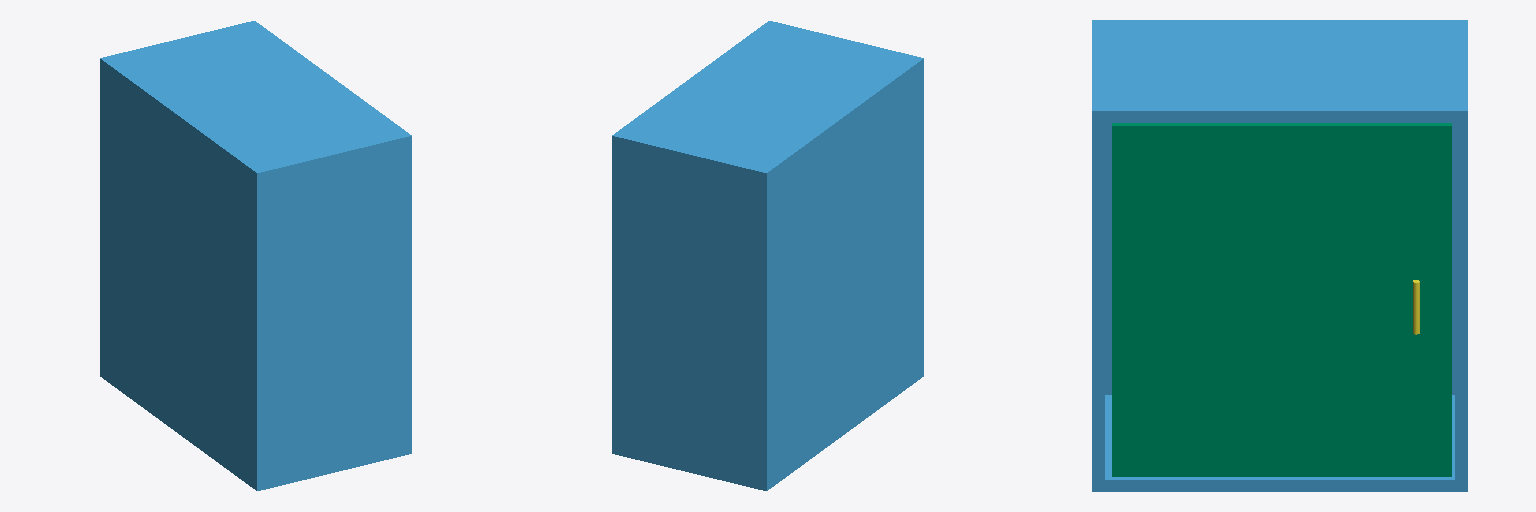
The robot description file, URDF, robot "my_cabinet":
<?xml version="1.0" ?>
<robot name="my_cabinet">
	<link name="world"/>
	<joint name="virtual_joint" type="fixed">
		<parent link="world"/>
		<child link="base_cabinet_link"/>
		<origin xyz="0.0 0.0 0.0" rpy="0.0 0.0 0.0"/>
	</joint>
	<link name="base_cabinet_link">
		<visual>
			<origin xyz="0.0 -0.0025 -0.2855412049980395" rpy="0.0 0.0 0.0"/>
			<geometry>
				<box size="0.3 0.5282421934627927 0.018"/>
			</geometry>
		</visual>
		<collision name="base_cabinet_link_collision_0">
			<origin xyz="0.0 -0.0025 -0.2855412049980395" rpy="0.0 0.0 0.0"/>
			<geometry>
				<box size="0.3 0.5282421934627927 0.018"/>
			</geometry>
		</collision>
		<visual>
			<origin xyz="0.0 0.2526210967313963 0.0" rpy="0.0 0.0 0.0"/>
			<geometry>
				<box size="0.3 0.018 0.589082409996079"/>
			</geometry>
		</visual>
		<collision name="base_cabinet_link_collision_1">
			<origin xyz="0.0 0.2526210967313963 0.0" rpy="0.0 0.0 0.0"/>
			<geometry>
				<box size="0.3 0.018 0.589082409996079"/>
			</geometry>
		</collision>
		<visual>
			<origin xyz="0.0 -0.2576210967313963 0.0" rpy="0.0 0.0 0.0"/>
			<geometry>
				<box size="0.3 0.018 0.589082409996079"/>
			</geometry>
		</visual>
		<collision name="base_cabinet_link_collision_2">
			<origin xyz="0.0 -0.2576210967313963 0.0" rpy="0.0 0.0 0.0"/>
			<geometry>
				<box size="0.3 0.018 0.589082409996079"/>
			</geometry>
		</collision>
		<visual>
			<origin xyz="0.0 -0.0025 0.2855412049980395" rpy="0.0 0.0 0.0"/>
			<geometry>
				<box size="0.3 0.5282421934627927 0.018"/>
			</geometry>
		</visual>
		<collision name="base_cabinet_link_collision_3">
			<origin xyz="0.0 -0.0025 0.2855412049980395" rpy="0.0 0.0 0.0"/>
			<geometry>
				<box size="0.3 0.5282421934627927 0.018"/>
			</geometry>
		</collision>
		<visual>
			<origin xyz="-0.141 -0.0025 0.0" rpy="0.0 0.0 0.0"/>
			<geometry>
				<box size="0.018 0.5282421934627927 0.589082409996079"/>
			</geometry>
		</visual>
		<collision name="base_cabinet_link_collision_4">
			<origin xyz="-0.141 -0.0025 0.0" rpy="0.0 0.0 0.0"/>
			<geometry>
				<box size="0.018 0.5282421934627927 0.589082409996079"/>
			</geometry>
		</collision>
		<inertial>
			<mass value="0.200000"/>
			<inertia ixx="0.010434" ixy="0.0" ixz="0.0" iyy="0.007284" iyz="0.0" izz="0.006151"/>
		</inertial>
	</link>
	<link name="door_link">
		<visual>
			<origin xyz="0.0 -0.2386210967313963 0.0"/>
			<geometry>
				<box size="0.018 0.4772421934627926 0.5430824099960789"/>
			</geometry>
		</visual>
		<collision name="door_link_collision">
			<origin xyz="0.0 -0.2386210967313963 0.0"/>
			<geometry>
				<box size="0.018 0.4772421934627926 0.5430824099960789"/>
			</geometry>
		</collision>
		<inertial>
			<mass value="0.200000"/>
			<inertia ixx="0.008712" ixy="0.0" ixz="0.0" iyy="0.004921" iyz="0.0" izz="0.003801"/>
		</inertial>
	</link>
	<joint name="door_joint" type="revolute">
		<origin xyz="0.141 -0.2386210967313963 0.0" rpy="0.000000 -0.000000 3.141593"/>
		<axis xyz="0 0 1"/>
		<parent link="base_cabinet_link"/>
		<child link="door_link"/>
		<limit effort="50" lower="-1.658062789394613" upper="0" velocity="10"/>
		<dynamics friction="3.5" damping="3.5"/>
	</joint>
	<link name="handle_link">
		<visual>
			<origin xyz="0.0 0.0 0.0" rpy="0.0 0.0 0.0"/>
			<geometry>
				<cylinder length="0.08" radius="0.005"/>
			</geometry>
		</visual>
		<collision name="handle_link_collision_0">
			<origin xyz="0.0 0.0 0.0" rpy="0.0 0.0 0.0"/>
			<geometry>
				<cylinder length="0.08" radius="0.005"/>
			</geometry>
		</collision>
		<visual>
			<origin xyz="-0.01 0.0 0.02" rpy="0.0 1.5707963267948966 0.0"/>
			<geometry>
				<cylinder length="0.02" radius="0.003"/>
			</geometry>
		</visual>
		<collision name="handle_link_collision_1">
			<origin xyz="-0.01 0.0 0.02" rpy="0.0 1.5707963267948966 0.0"/>
			<geometry>
				<cylinder length="0.01" radius="0.003"/>
			</geometry>
		</collision>
		<visual>
			<origin xyz="-0.01 0.0 -0.02" rpy="0.0 1.5707963267948966 0.0"/>
			<geometry>
				<cylinder length="0.02" radius="0.003"/>
			</geometry>
		</visual>
		<collision name="handle_link_collision_2">
			<origin xyz="-0.01 0.0 -0.02" rpy="0.0 1.5707963267948966 0.0"/>
			<geometry>
				<cylinder length="0.02" radius="0.003"/>
			</geometry>
		</collision>
		<inertial>
			<mass value="0.050000"/>
			<inertia ixx="0.000027" ixy="0.0" ixz="0.0" iyy="0.000029" iyz="0.0" izz="0.000003"/>
		</inertial>
	</link>
	<joint name="handle_joint" type="fixed">
		<origin xyz="-0.028999999999999998 -0.42724219346279263 0.0" rpy="0.000000 -0.000000 3.141593"/>
		<parent link="door_link"/>
		<child link="handle_link"/>
	</joint>
	<gazebo reference="base_cabinet_link">
		<sensor name="main_sensor" type="contact">
			<selfCollide>true</selfCollide>
			<alwaysOn>true</alwaysOn>
			<updateRate>5.0</updateRate>
			<material>Gazebo/Red</material>
			<contact>
				<collision>base_cabinet_link_collision_0_collision</collision>
				<collision>base_cabinet_link_collision_1_collision</collision>
				<collision>base_cabinet_link_collision_2_collision</collision>
				<collision>base_cabinet_link_collision_3_collision</collision>
				<collision>base_cabinet_link_collision_4_collision</collision>
			</contact>
			<plugin name="gazebo_ros_bumper_controller" filename="libgazebo_ros_bumper.so">
				<bumperTopicName>/contact</bumperTopicName>
				<frameName>world</frameName>
			</plugin>
		</sensor>
	</gazebo>
	<gazebo reference="door_link">
		<sensor name="main_sensor" type="contact">
			<selfCollide>true</selfCollide>
			<alwaysOn>true</alwaysOn>
			<updateRate>5.0</updateRate>
			<material>Gazebo/Red</material>
			<contact>
				<collision>door_link_collision_collision</collision>
			</contact>
			<plugin name="gazebo_ros_bumper_controller" filename="libgazebo_ros_bumper.so">
				<bumperTopicName>/contact_door</bumperTopicName>
				<frameName>contact_door</frameName>
			</plugin>
		</sensor>
	</gazebo>
	<gazebo reference="door_link">
		<mu>3.0</mu>
		<mu2>3.0</mu2>
		<kp>10000000</kp>
		<kd>100</kd>
	</gazebo>
</robot>

--- Render facts (derived) ---
3 views of the same robot in one strip: view 1: azimuth 30°, elevation 25°; view 2: azimuth 150°, elevation 25°; view 3: azimuth 270°, elevation 25° (orthographic).
Model my_cabinet with 4 links and 3 joints (1 revolute, 2 fixed), rooted at world, posed every joint at zero.
Visible links, largest first — view 1: base_cabinet_link; view 2: base_cabinet_link; view 3: door_link, base_cabinet_link.
Link boxes in pixels (box(x1,y1,x2,y2)): base_cabinet_link: box(100, 21, 411, 490); base_cabinet_link: box(612, 21, 923, 490); door_link: box(1112, 123, 1451, 476); base_cabinet_link: box(1092, 20, 1467, 491).
Bounding box of the posed robot: 0.325 × 0.5282 × 0.5891 m (x, y, z).
Geometry: primitives only (box / cylinder / sphere), no mesh files.
